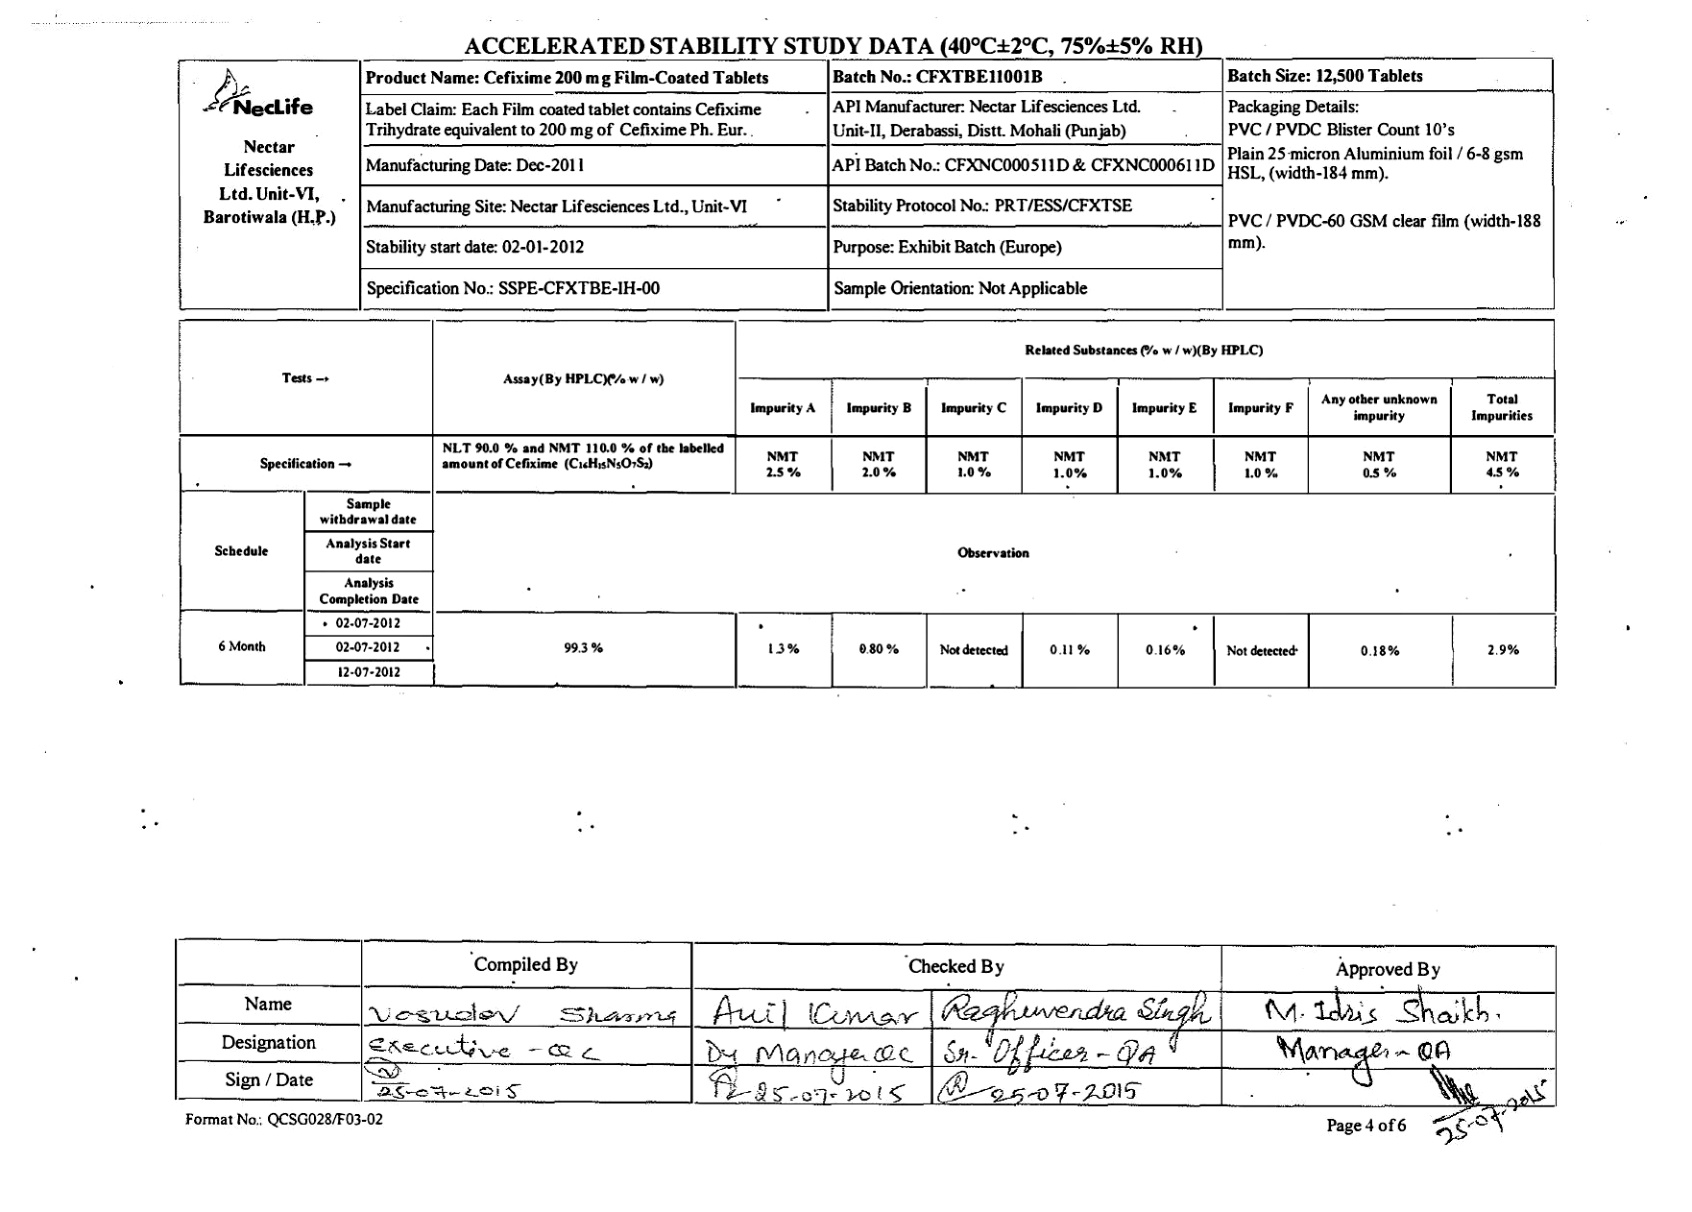merged_cells: (177, 317, 1558, 690), (177, 55, 1556, 310), (174, 935, 1557, 1107)
